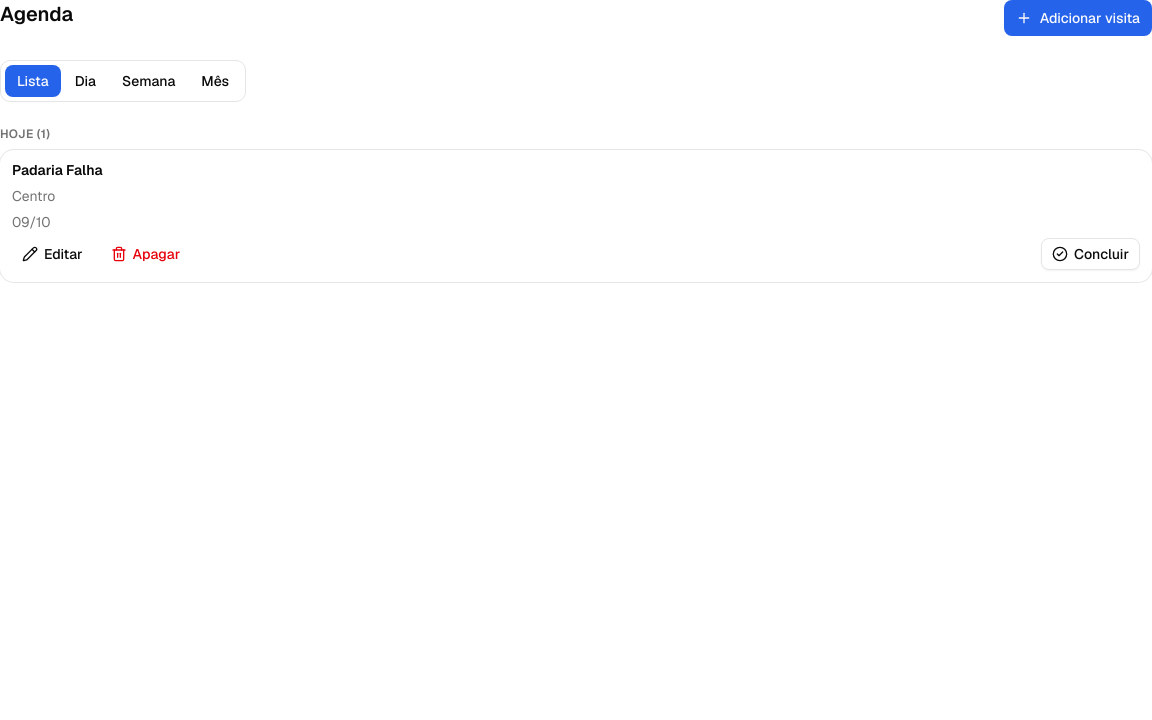
Test: Agenda2List › falha-acao: concluirAgenda2Item com erro mostra role=alert com a mensagem genérica
Expected: the text "Padaria Falha" is shown, [12,161,102,179]
Click the button "Concluir" at (1091,254), box [1041,238,1140,270]
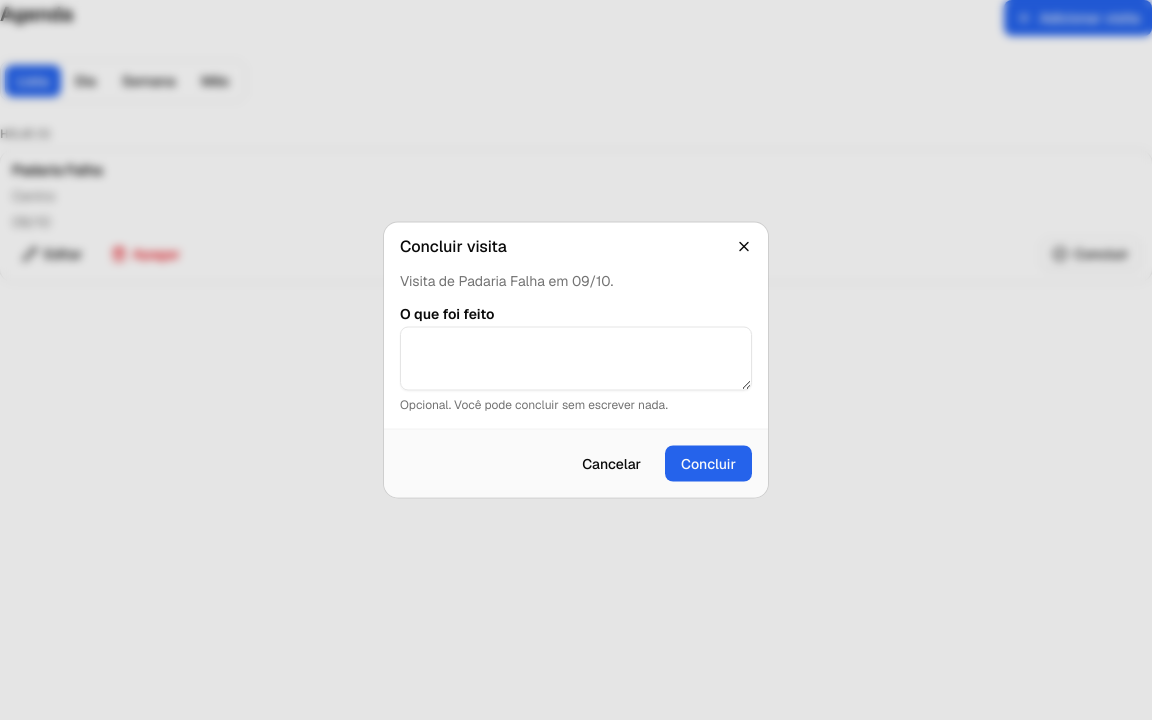
Click the button "Concluir" at (709,464), box [665,446,752,482]
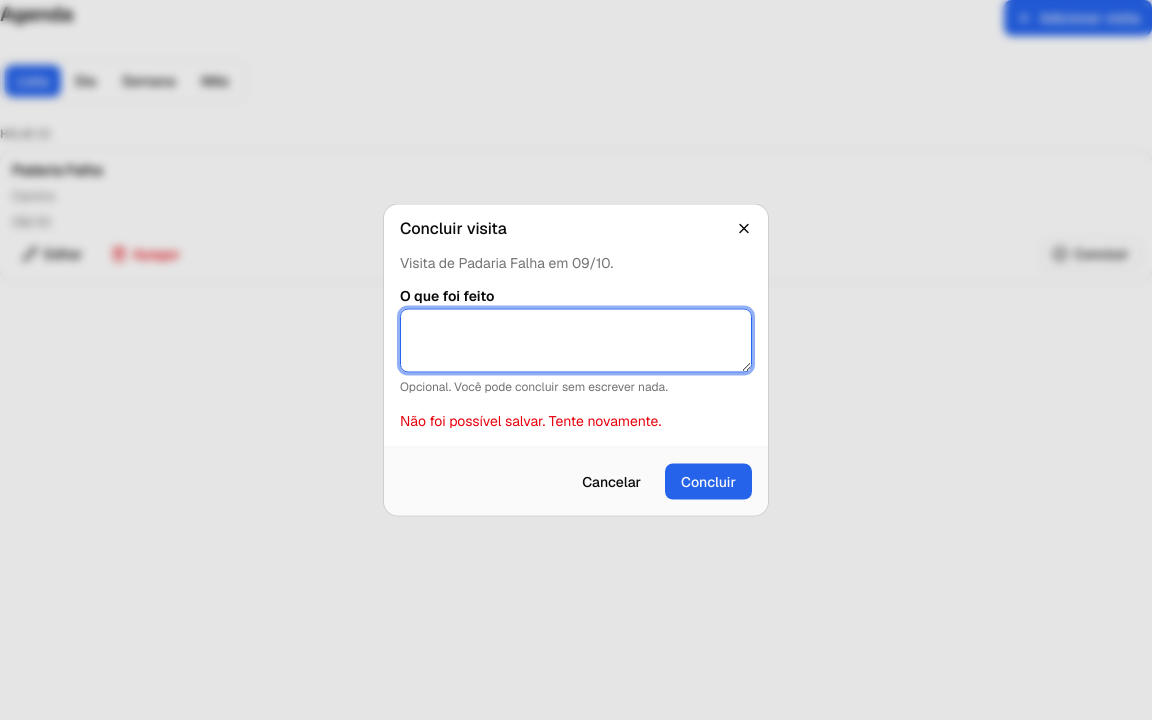
Expected: the message reads "Não foi possível salvar. Tente novamente.", [400,412,661,430]
